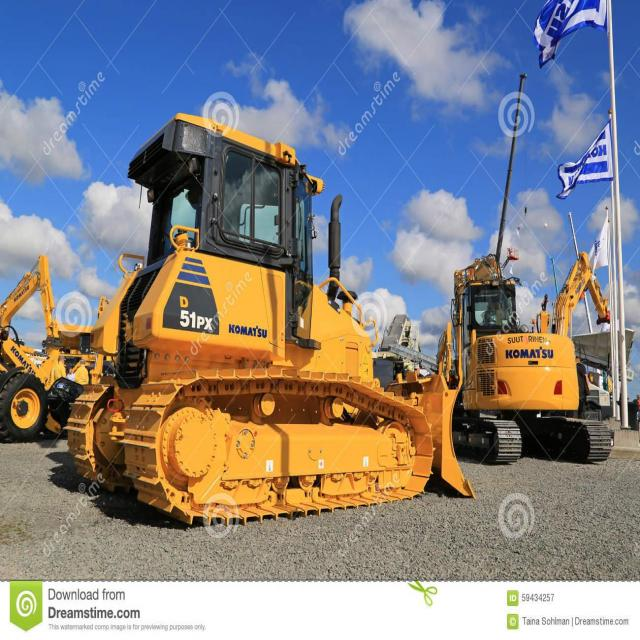Bulldozer: (43, 92, 492, 541)
